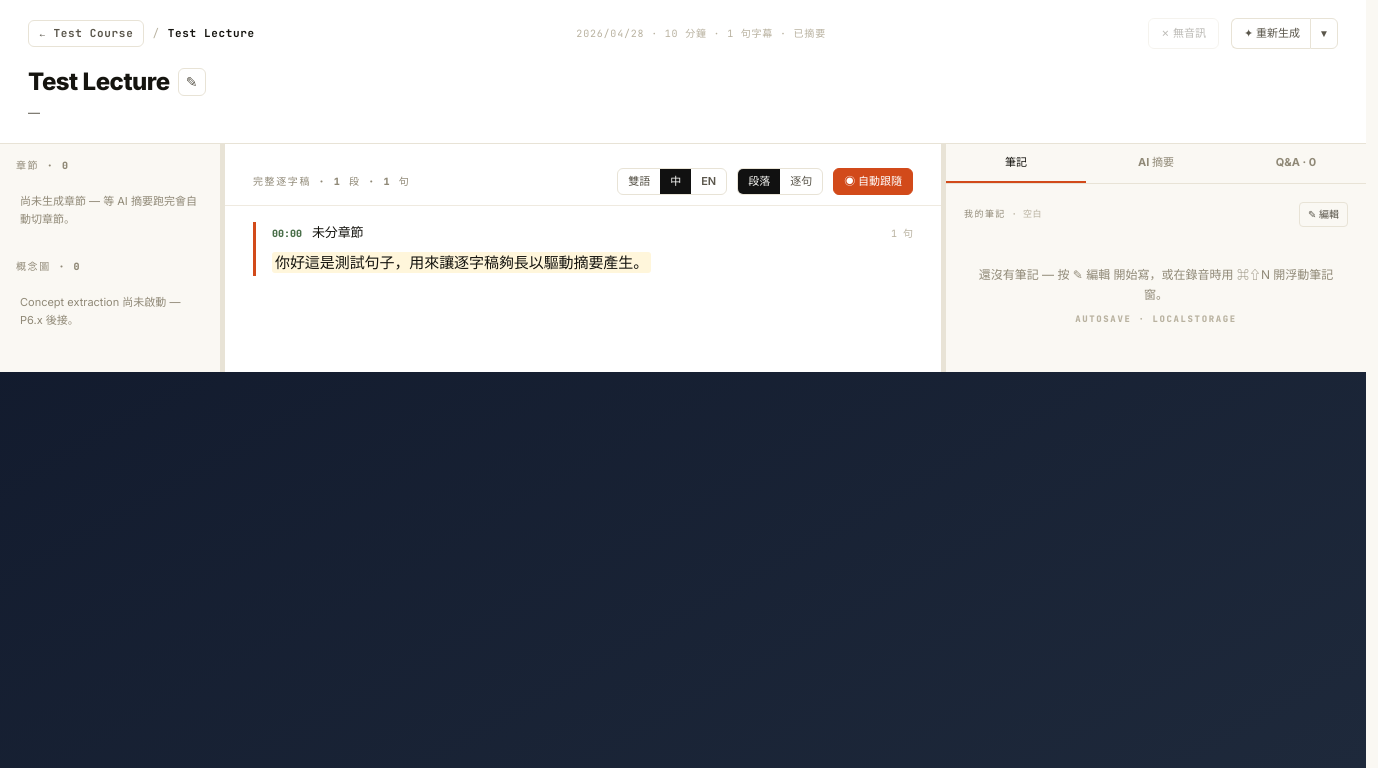
Test: H18ReviewPage · cp75.31 granular regenerate › Esc closes the dropdown
The width and height of the screenshot is (1378, 768).
Step 1. Click the button "▼" → (1324, 34), box x1=1310 y1=18 x2=1338 y2=49
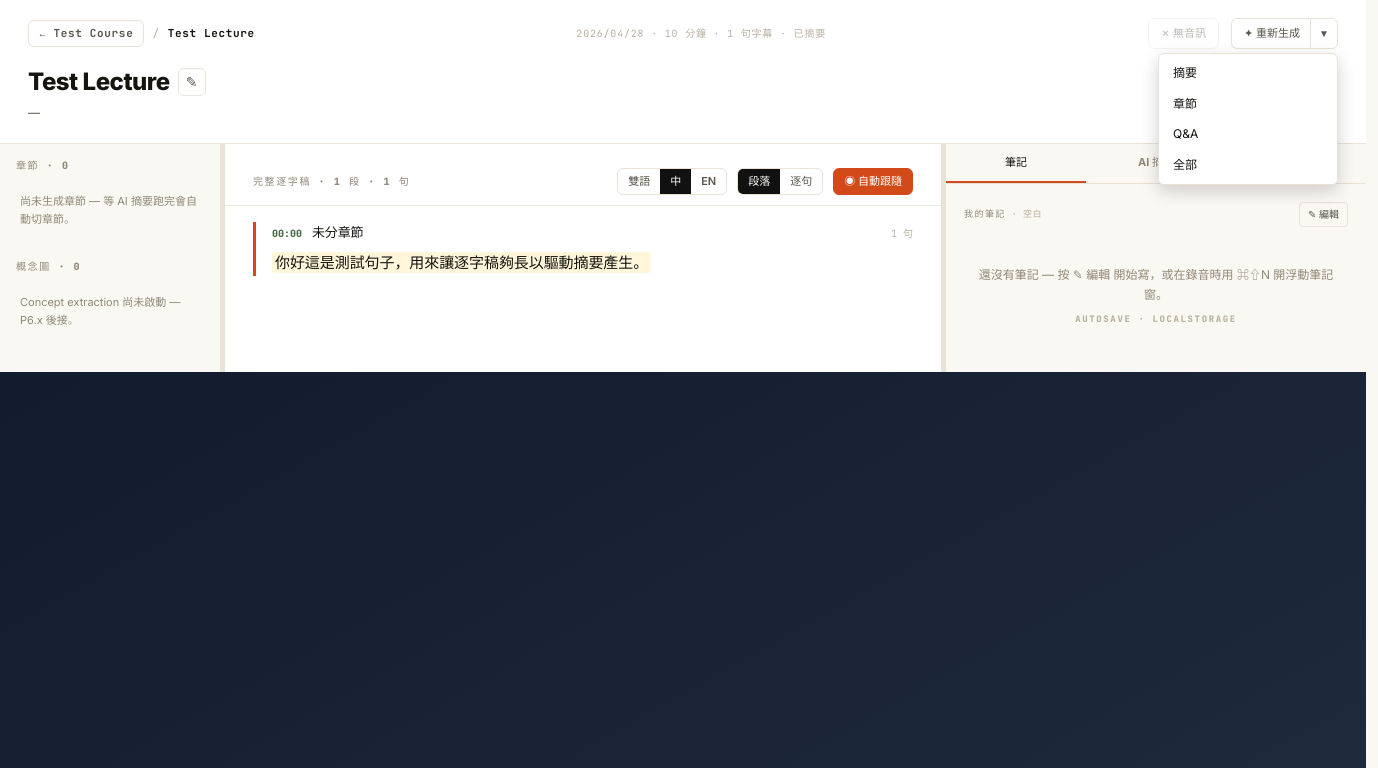
Now the menu is shown, box x1=1158 y1=53 x2=1338 y2=185
// Press Esc — menu closes.
Step 2. Press Escape
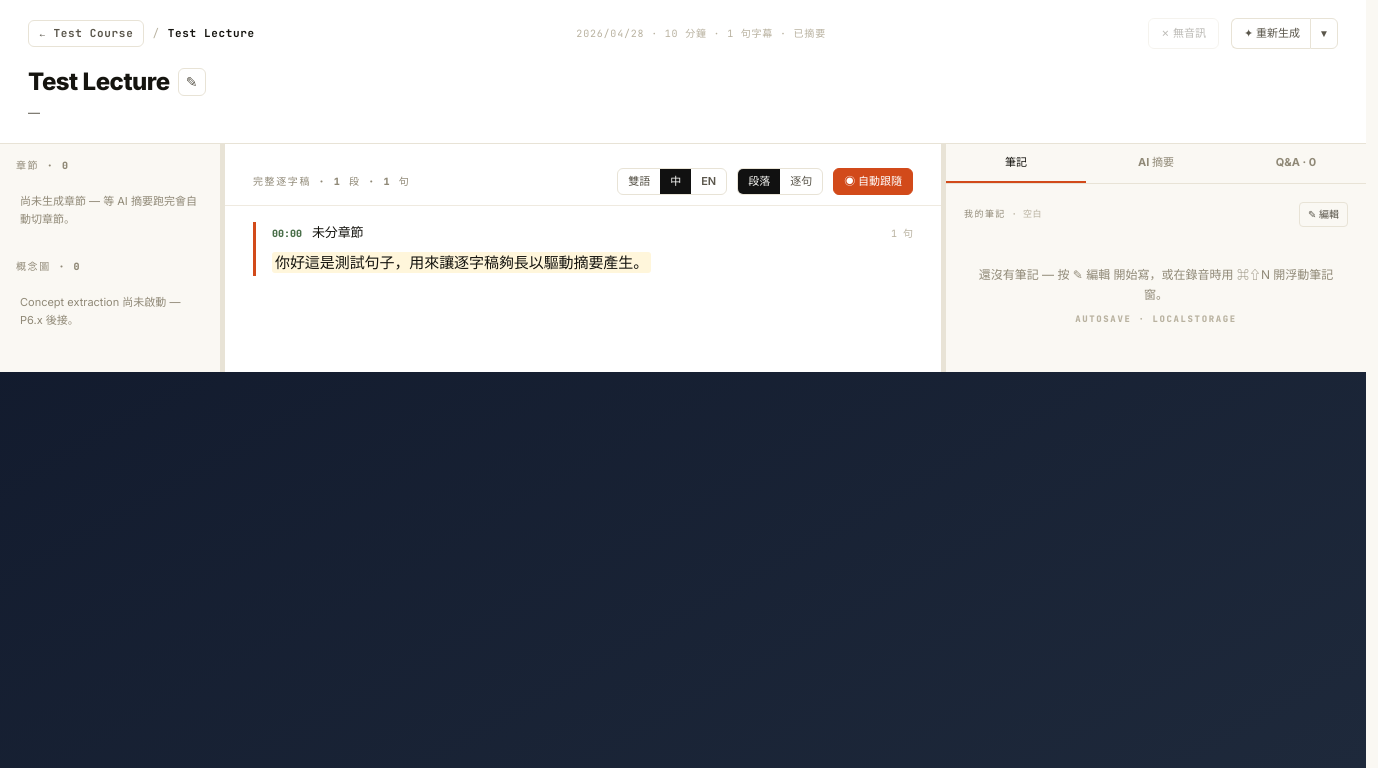
Now the menu is gone
